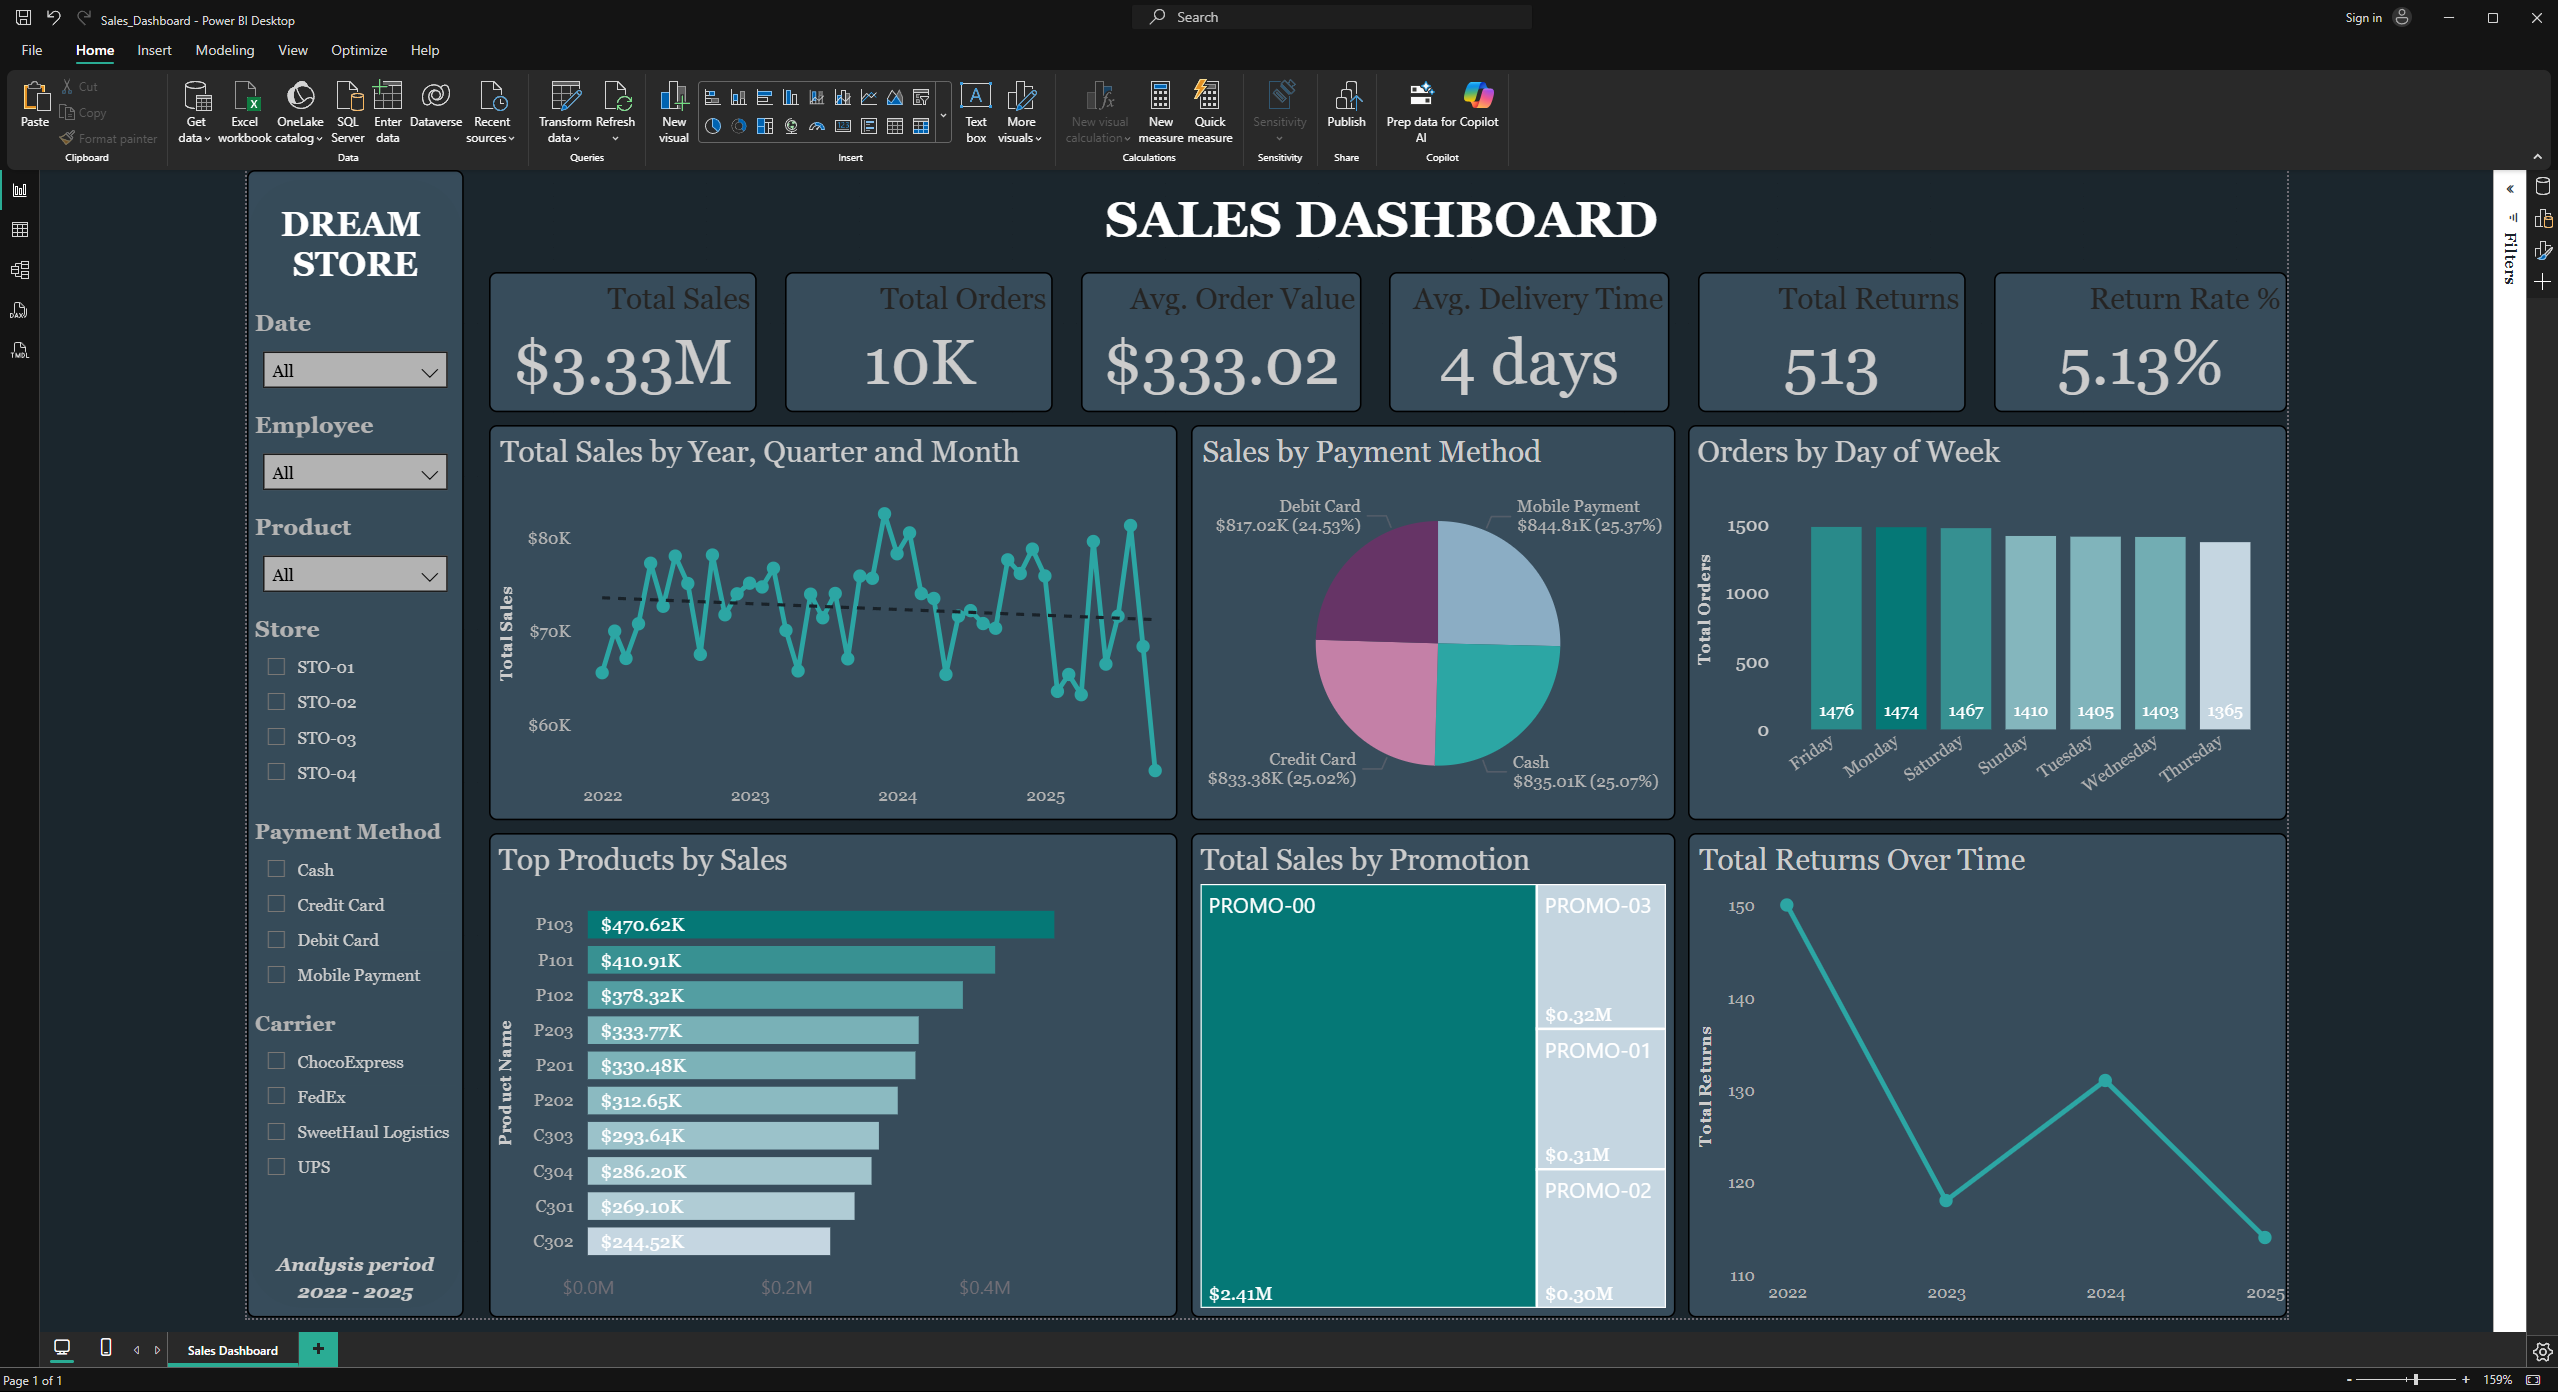

Layout of this report page (visuals, bound fields, positions):
{"tool":"powerbi","page":{"name":"Sales Dashboard","canvas":[1280,720],"ordinal":0},"visuals":[{"type":"shape","box":[0,0,136,720],"z":0},{"type":"lineChart","fields":{"Y":["order_lines.Total Sales"],"Category":["sales_transactions.date.Variation.Date Hierarchy.Year","sales_transactions.date.Variation.Date Hierarchy.Quarter","sales_transactions.date.Variation.Date Hierarchy.Month"]},"box":[152,160,432,248],"z":1000},{"type":"textbox","box":[152,8,1120,48],"z":2000},{"type":"slicer","title":"Employee","fields":{"Values":["sales_transactions.employee_id"]},"box":[0,152,136,64],"z":3000},{"type":"card","title":"Total Sales","fields":{"Values":["order_lines.Total Sales"]},"box":[152,64,168,88],"z":4000},{"type":"textbox","box":[0,16,136,64],"z":5000},{"type":"slicer","title":"Product","fields":{"Values":["order_lines.product_id"]},"box":[0,216,136,64],"z":6000},{"type":"slicer","title":"Date","fields":{"Values":["sales_transactions.date.Variation.Date Hierarchy.Year","sales_transactions.date.Variation.Date Hierarchy.Quarter","sales_transactions.date.Variation.Date Hierarchy.Month","sales_transactions.date.Variation.Date Hierarchy.Day","sales_transactions.date.Variation.Date Hierarchy.Year","sales_transactions.date.Variation.Date Hierarchy.Month"]},"box":[0,88,136,64],"z":7000},{"type":"card","title":"Total Orders","fields":{"Values":["order_lines.Total Orders"]},"box":[337.6,64,168,88],"z":8000},{"type":"card","title":"Total Returns","fields":{"Values":["order_lines.Total Returns"]},"box":[910.4,64,168,88],"z":9000},{"type":"card","title":"Avg. Order Value","fields":{"Values":["order_lines.Average Order Value"]},"box":[523.2,64,176,88],"z":10000},{"type":"card","title":"Avg. Delivery Time","fields":{"Values":["order_lines.Average Delivery Time"]},"box":[716.8,64,176,88],"z":11000},{"type":"card","title":"Return Rate %","fields":{"Values":["order_lines.Sales YoY Growth %"]},"box":[1096,64,184,88],"z":12000},{"type":"barChart","title":"Top Products by Sales","fields":{"Category":["order_lines.product_id"],"Y":["Sum(order_lines.line_total)"]},"box":[152,416,432,304],"z":13000},{"type":"slicer","title":"Store","fields":{"Values":["sales_transactions.store_id"]},"box":[0,280,136,120],"z":14000},{"type":"slicer","title":"Payment Method","fields":{"Values":["sales_transactions.payment_method"]},"box":[0,408,136,120],"z":15000},{"type":"pieChart","title":"Sales by Payment Method","fields":{"Category":["sales_transactions.payment_method"],"Y":["Sum(sales_transactions.total_amount)"]},"box":[592,160,304,248],"z":16000},{"type":"columnChart","title":"Orders by Day of Week","fields":{"Y":["order_lines.Total Orders"],"Category":["sales_transactions.Day of Week"]},"box":[904,160,376,248],"z":17000},{"type":"treemap","title":"Total Sales by Promotion","fields":{"Group":["sales_transactions.promotion_id"],"Values":["Sum(sales_transactions.total_amount)"]},"box":[592,416,304,304],"z":18000},{"type":"lineChart","title":"Total Returns Over Time","fields":{"Y":["CountNonNull(returns_log.return_id)"],"Category":["sales_transactions.date.Variation.Date Hierarchy.Year"]},"box":[904,416,376,304],"z":19000},{"type":"textbox","box":[0,672,136,48],"z":20000},{"type":"slicer","title":"Carrier","fields":{"Values":["shipping_details.carrier"]},"box":[0,528,136,120],"z":21000}]}

Visuals, with their boxes on the page's 1280x720 design canvas (x1, y1, x2, y2). These are canvas units, not pixel positions in the 2558x1392 screenshot, which may show the page scaled, cropped or inside an application window:
shape: {"x1": 0, "y1": 0, "x2": 136, "y2": 720}
lineChart - order_lines.Total Sales x sales_transactions.date.Variation.Date Hierarchy.Year: {"x1": 152, "y1": 160, "x2": 584, "y2": 408}
textbox: {"x1": 152, "y1": 8, "x2": 1272, "y2": 56}
"Employee" slicer: {"x1": 0, "y1": 152, "x2": 136, "y2": 216}
"Total Sales" card: {"x1": 152, "y1": 64, "x2": 320, "y2": 152}
textbox: {"x1": 0, "y1": 16, "x2": 136, "y2": 80}
"Product" slicer: {"x1": 0, "y1": 216, "x2": 136, "y2": 280}
"Date" slicer: {"x1": 0, "y1": 88, "x2": 136, "y2": 152}
"Total Orders" card: {"x1": 338, "y1": 64, "x2": 506, "y2": 152}
"Total Returns" card: {"x1": 910, "y1": 64, "x2": 1078, "y2": 152}
"Avg. Order Value" card: {"x1": 523, "y1": 64, "x2": 699, "y2": 152}
"Avg. Delivery Time" card: {"x1": 717, "y1": 64, "x2": 893, "y2": 152}
"Return Rate %" card: {"x1": 1096, "y1": 64, "x2": 1280, "y2": 152}
"Top Products by Sales" barChart: {"x1": 152, "y1": 416, "x2": 584, "y2": 720}
"Store" slicer: {"x1": 0, "y1": 280, "x2": 136, "y2": 400}
"Payment Method" slicer: {"x1": 0, "y1": 408, "x2": 136, "y2": 528}
"Sales by Payment Method" pieChart: {"x1": 592, "y1": 160, "x2": 896, "y2": 408}
"Orders by Day of Week" columnChart: {"x1": 904, "y1": 160, "x2": 1280, "y2": 408}
"Total Sales by Promotion" treemap: {"x1": 592, "y1": 416, "x2": 896, "y2": 720}
"Total Returns Over Time" lineChart: {"x1": 904, "y1": 416, "x2": 1280, "y2": 720}
textbox: {"x1": 0, "y1": 672, "x2": 136, "y2": 720}
"Carrier" slicer: {"x1": 0, "y1": 528, "x2": 136, "y2": 648}
